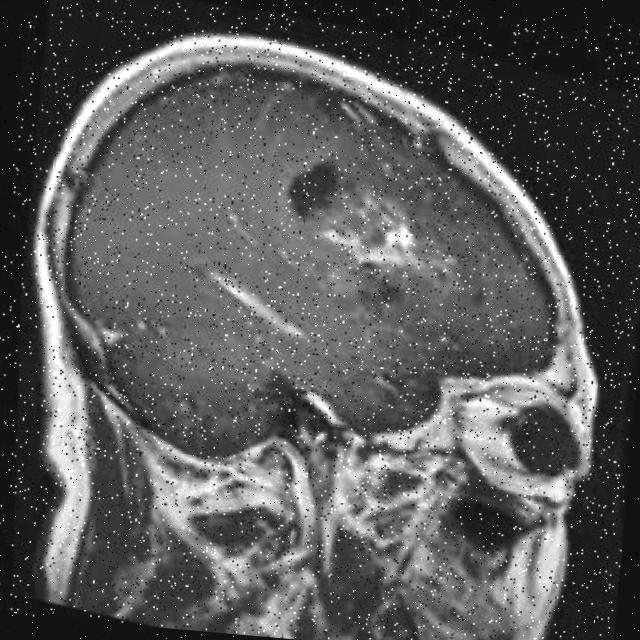CN: (215, 160, 438, 327)
